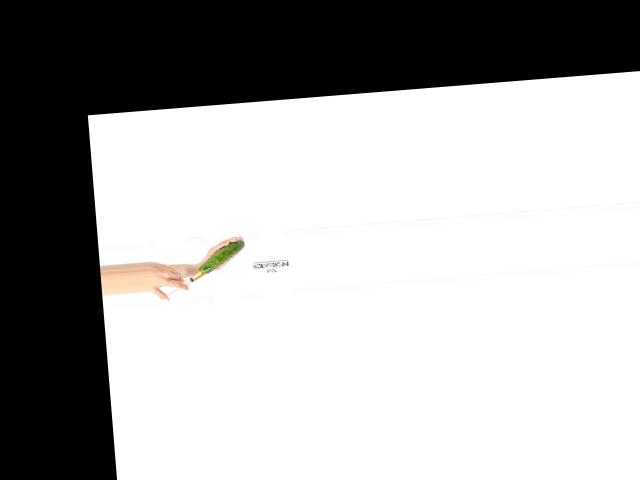cucumber: (196, 240, 246, 274)
